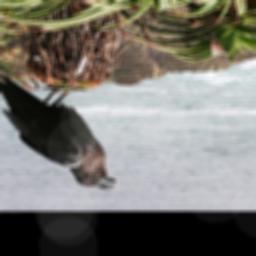Crow: (0, 71, 123, 191)
